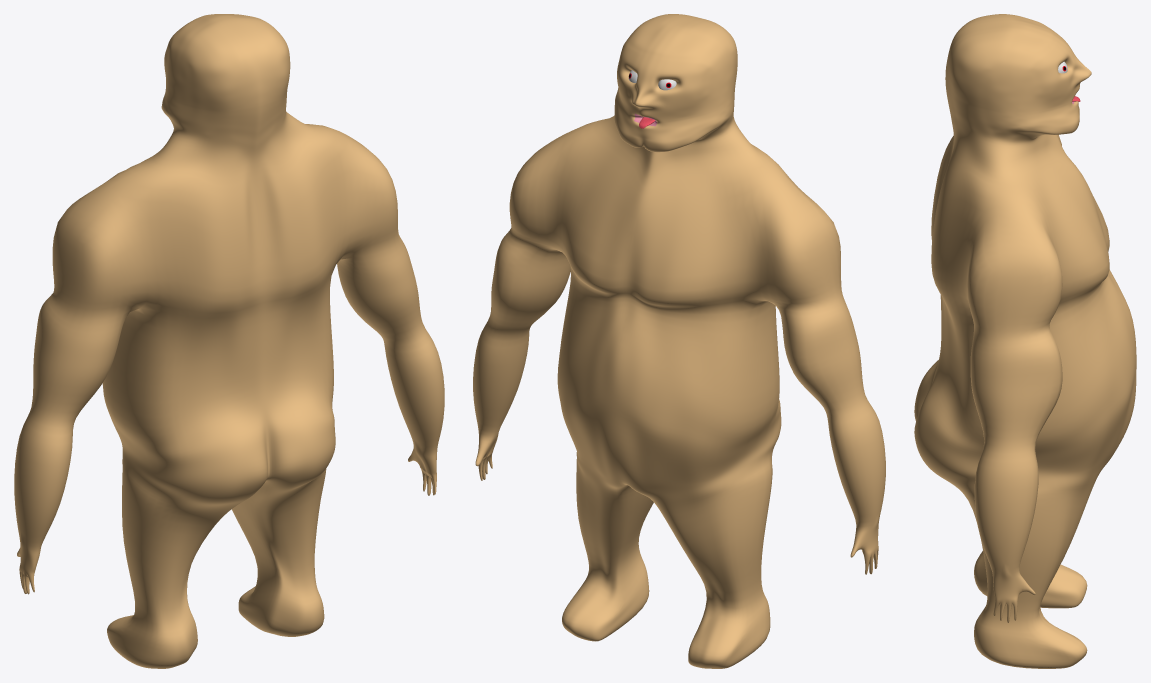
Rendered from NakedGuy.fbx.
3 renders of one model, left to right at view 1: azimuth 30°, elevation 25°; view 2: azimuth 150°, elevation 25°; view 3: azimuth 270°, elevation 25°, orthographic. The views are drawn at different scales.
Parts seen in each view (by area): view 1: Guy; view 2: Guy; view 3: Guy.
Boxes of the visible parts, bbox=[...] form: Guy: bbox=[14, 14, 444, 668]; Guy: bbox=[473, 14, 885, 668]; Guy: bbox=[914, 14, 1136, 668].
Size of the model in its own units: 121 by 173 by 57.43.
